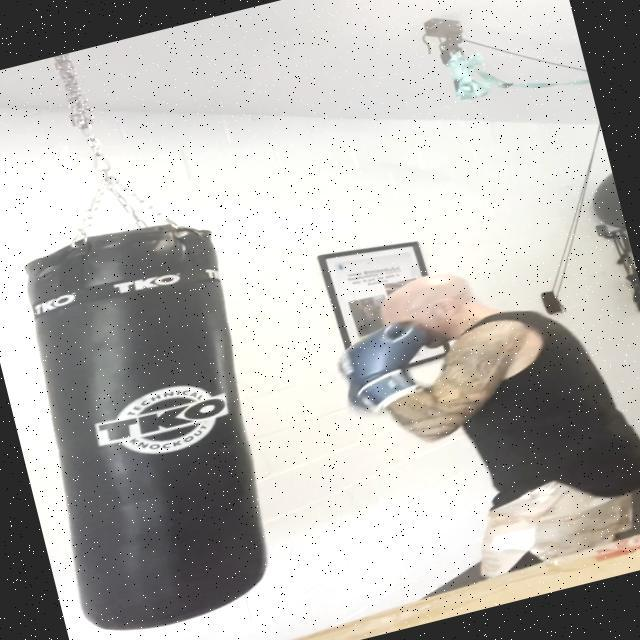bag: (1, 205, 315, 640)
no punch: (304, 234, 606, 463)
